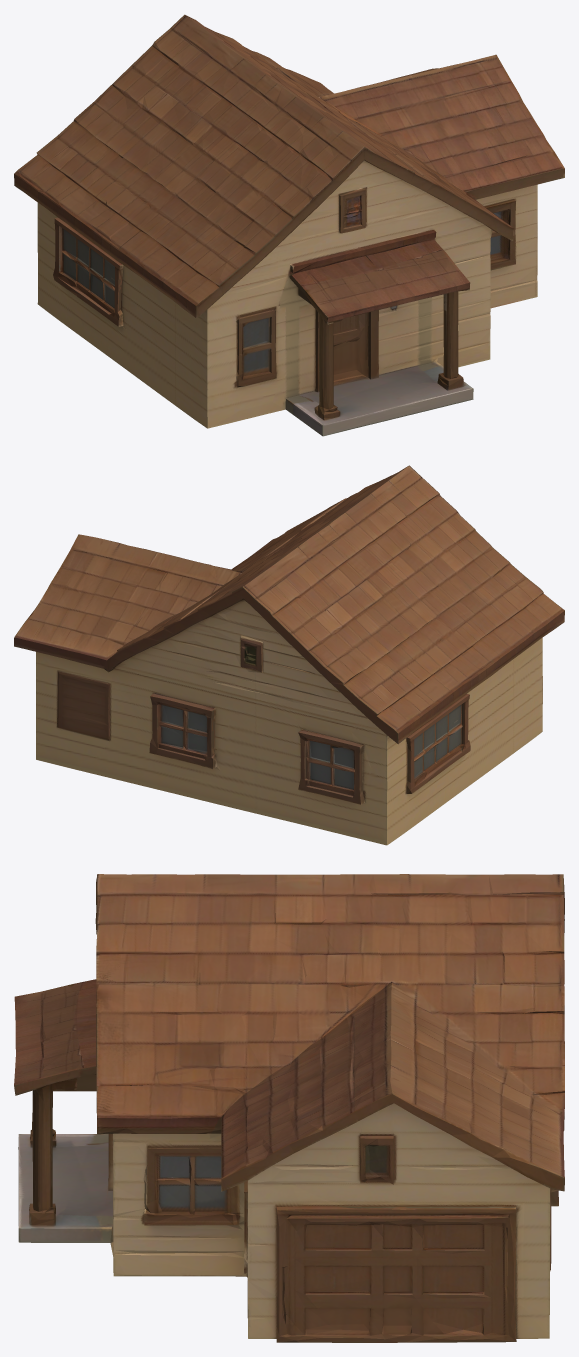
The model's file is LowPolyHouse.fbx.
3 renders of one model, top to bottom at view 1: azimuth 30°, elevation 25°; view 2: azimuth 150°, elevation 25°; view 3: azimuth 270°, elevation 25°, orthographic. The views are drawn at different scales.
Parts seen in each view (by area): view 1: temp; view 2: temp; view 3: temp.
Boxes of the visible parts, x1,y1,x2,y2 form: temp: (14,14,564,436); temp: (14,465,564,845); temp: (14,874,564,1342).
Bounding box in the file's own units: 200 × 114 × 177.
1 material, 1 textured.
